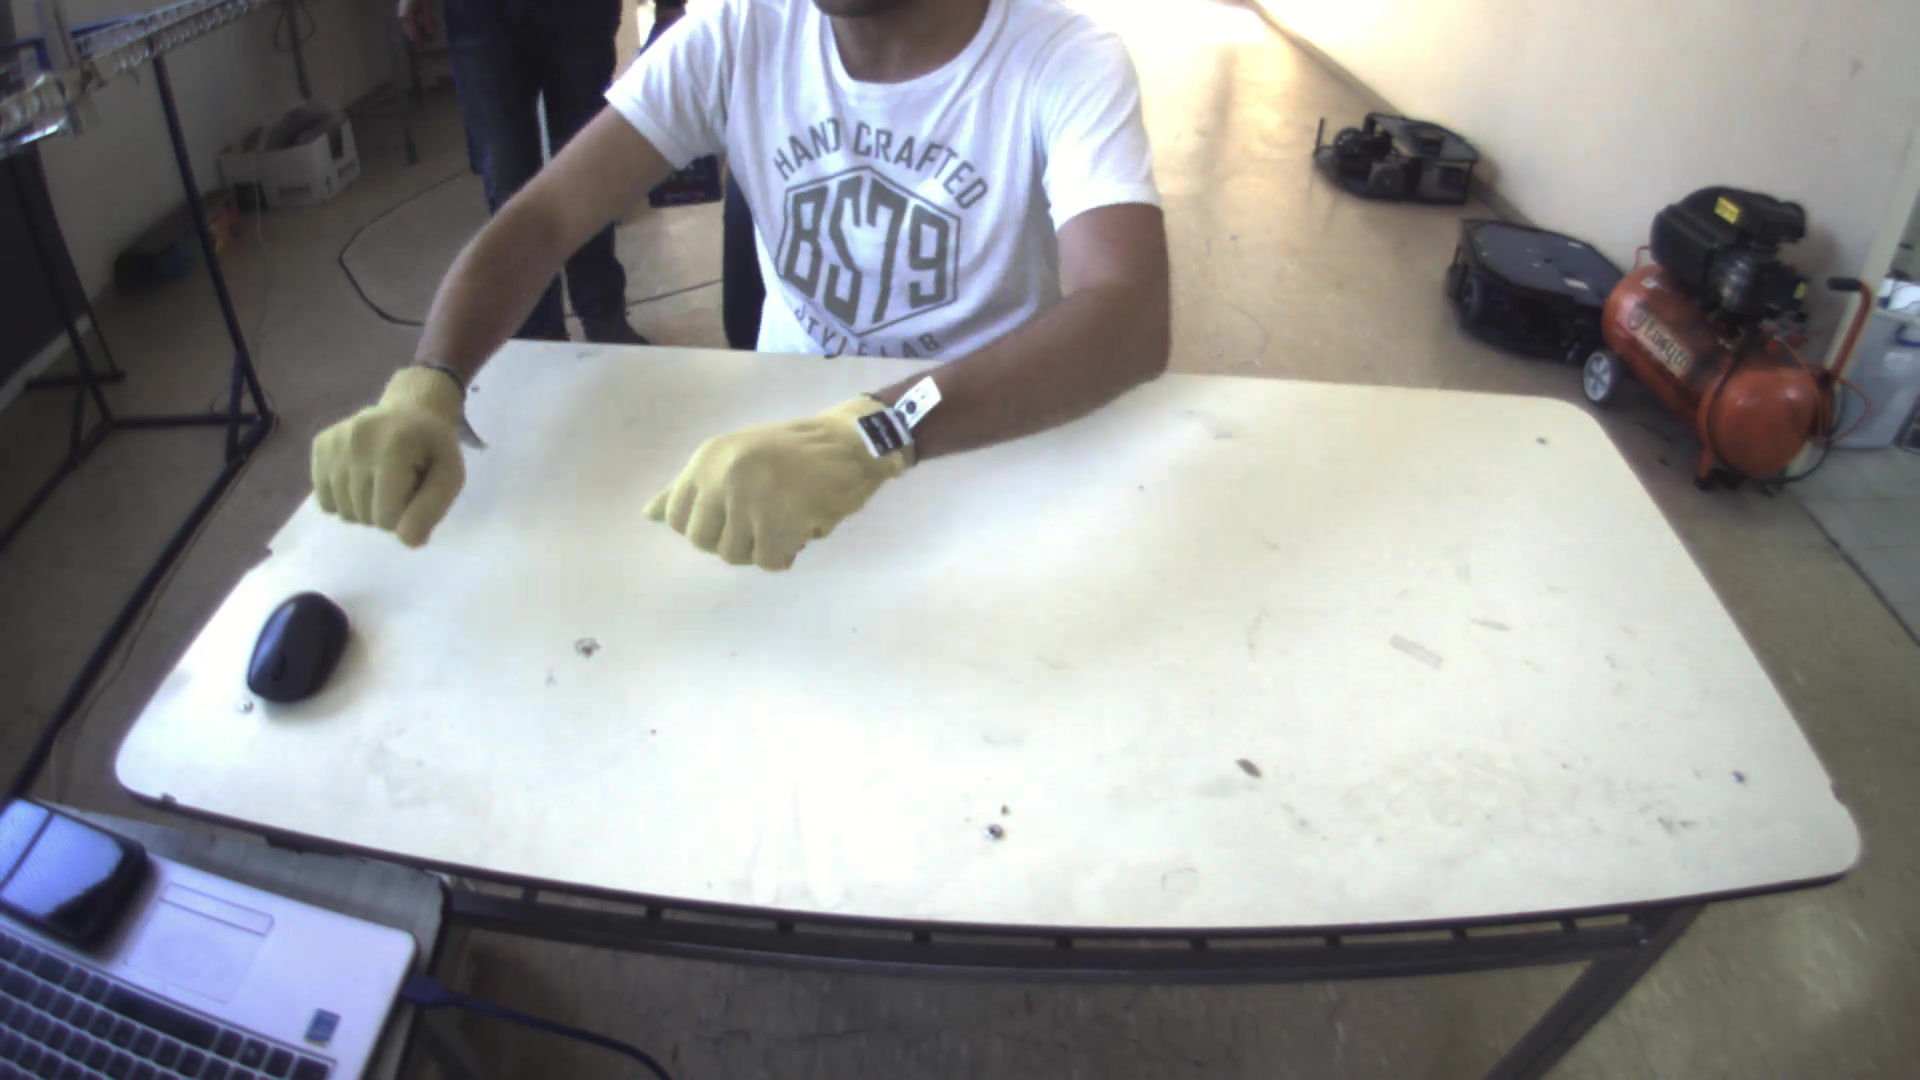hand: (633, 380, 916, 579), (297, 347, 484, 551)
